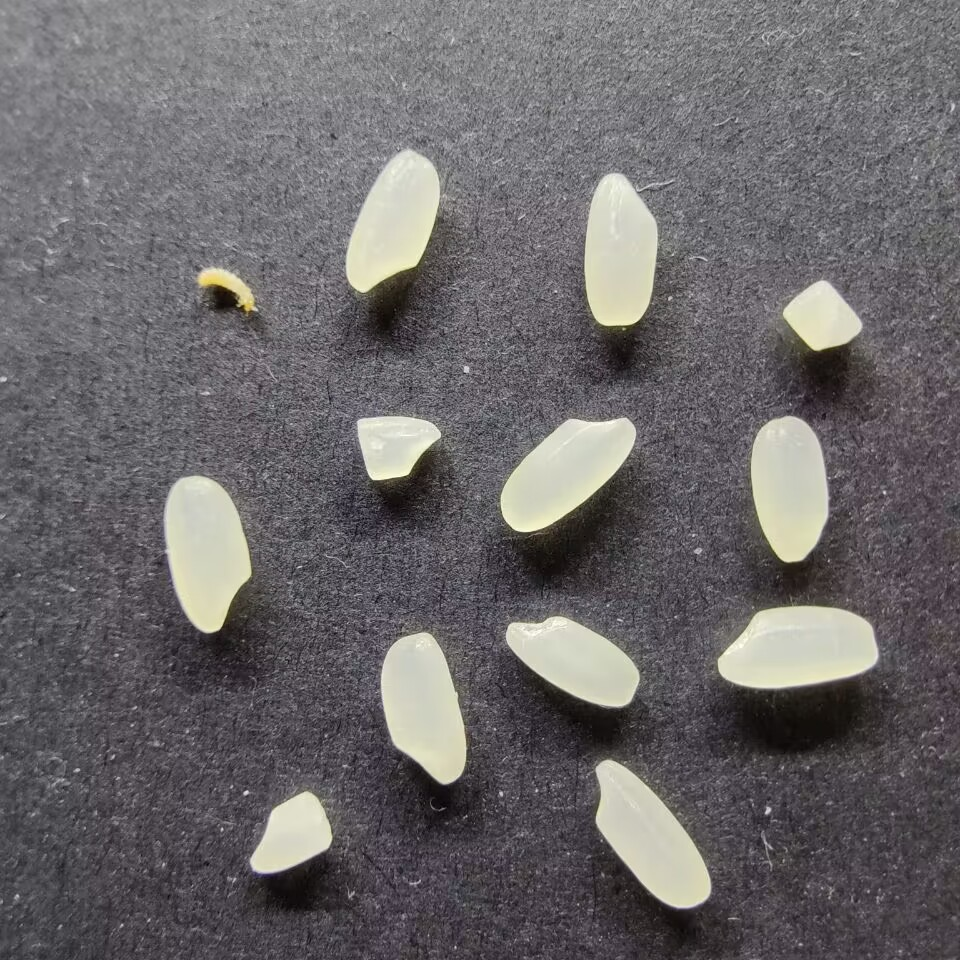broken: (248, 791, 333, 874), (781, 279, 863, 351), (355, 416, 443, 482)
others: (194, 265, 260, 317)
rice: (593, 757, 712, 910), (499, 415, 637, 533), (163, 475, 252, 633), (344, 149, 440, 293), (716, 605, 877, 689), (379, 632, 466, 786), (503, 614, 640, 708), (582, 172, 659, 326), (749, 415, 829, 563)
